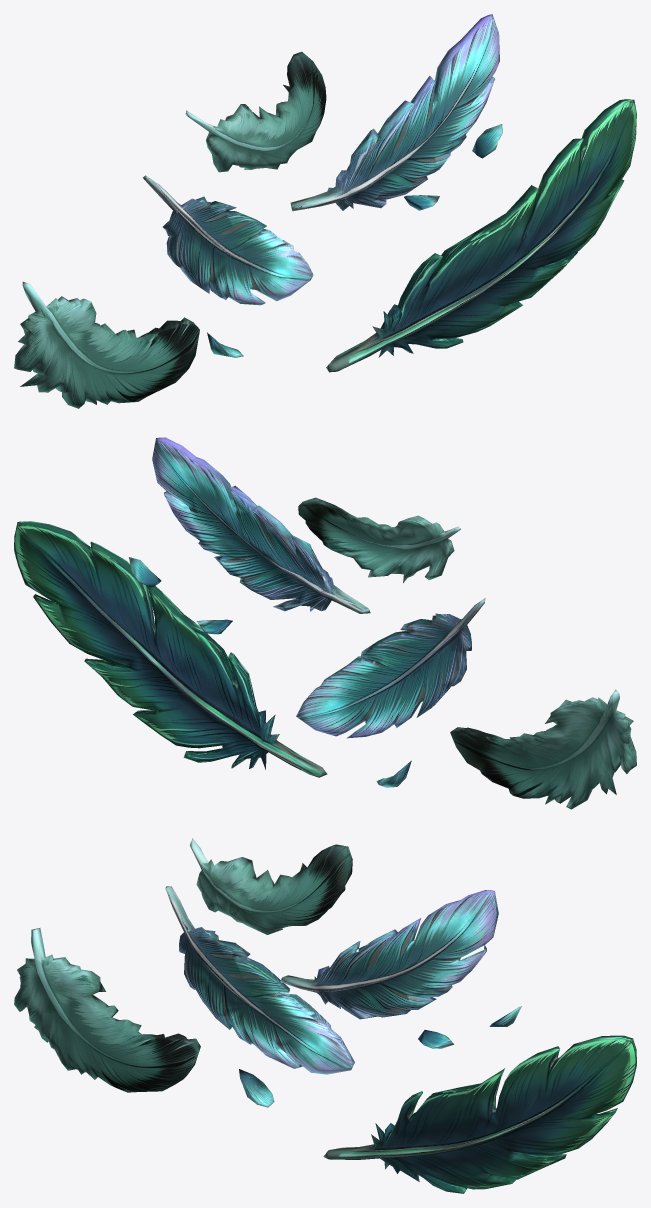
The picture shows the model from 3 angles, top to bottom: view 1: azimuth 30°, elevation 25°; view 2: azimuth 150°, elevation 25°; view 3: azimuth 330°, elevation 25°; orthographic projection. The views are drawn at different scales.
Visible parts, largest first — view 1: Mesh_0; view 2: Mesh_0; view 3: Mesh_0.
Part boxes in pixels (x1,y1,x2,y2): Mesh_0: [14, 14, 636, 408]; Mesh_0: [14, 437, 636, 809]; Mesh_0: [14, 838, 636, 1193].
Size of the model in its own units: 1.91 by 0.9268 by 0.2195.
1 material, 1 textured.
